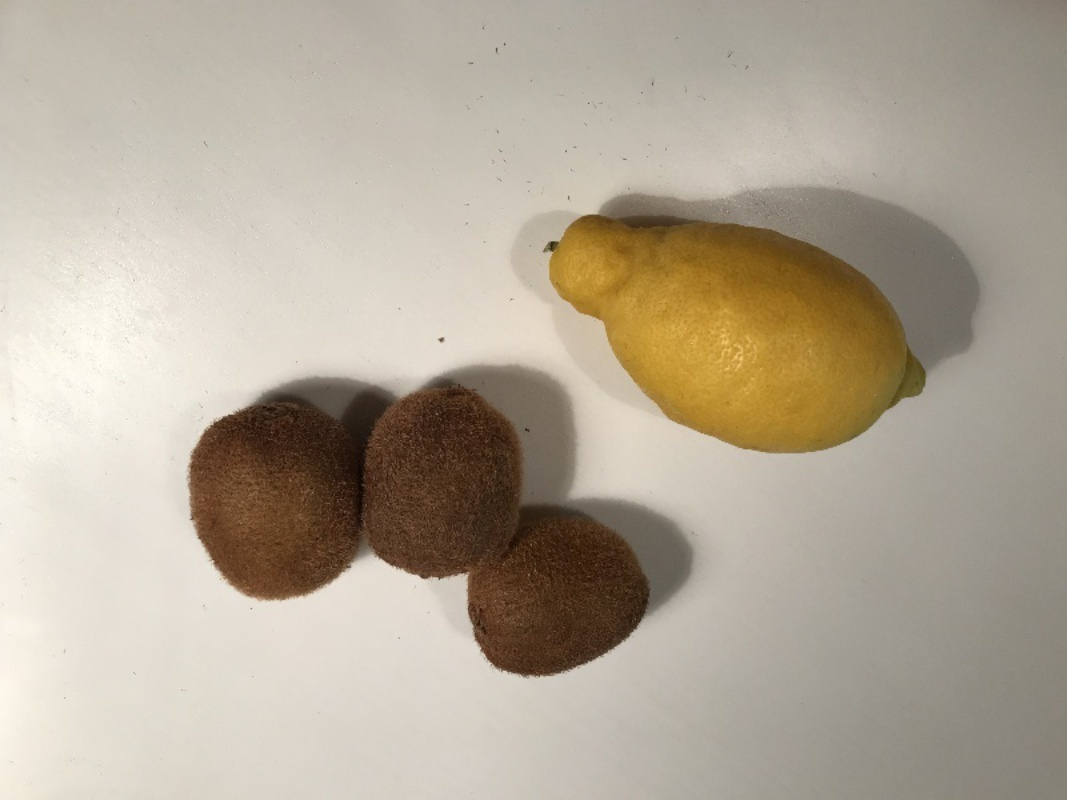kiwi: (187, 396, 360, 601), (468, 506, 649, 678), (365, 385, 519, 578)
lemon: (549, 216, 925, 453)
